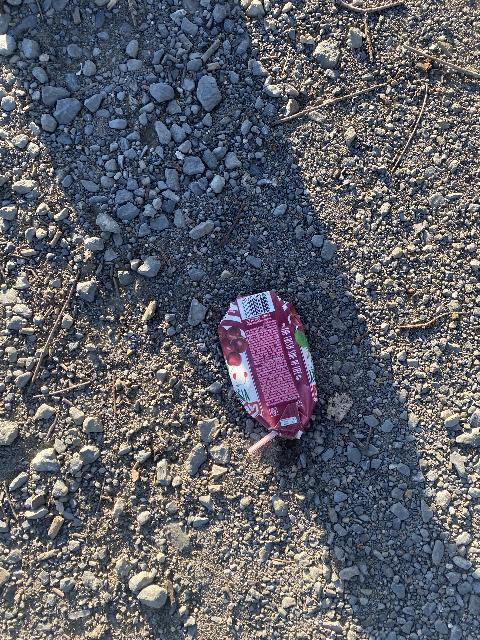Kagit: (205, 283, 338, 473)
Organik: (27, 265, 92, 397), (287, 63, 405, 125), (322, 0, 414, 56), (389, 37, 480, 92)
Plastik: (235, 422, 283, 486)
